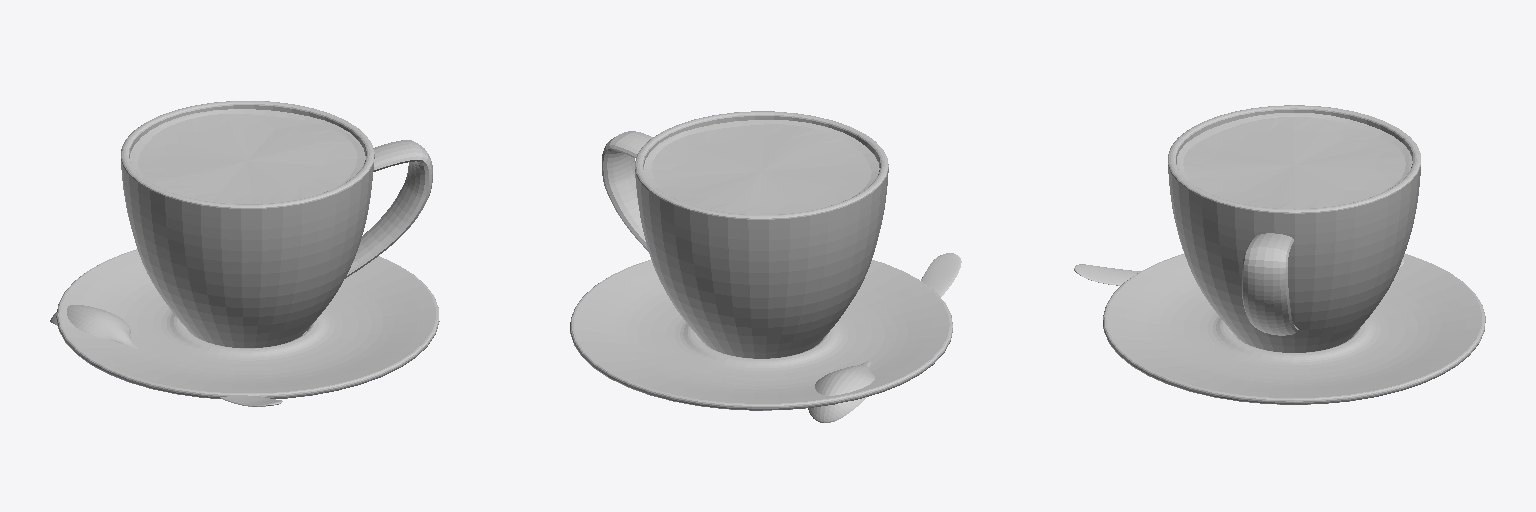
File: coffee-cup.obj
3 renders of one model, left to right at view 1: azimuth 30°, elevation 25°; view 2: azimuth 150°, elevation 25°; view 3: azimuth 270°, elevation 25°, orthographic.
Parts seen in each view (by area): view 1: cup, plate, cappuccino, spoon; view 2: cup, plate, cappuccino, spoon; view 3: cup, plate, cappuccino, spoon.
Part boxes in pixels (x1,y1,x2,y2): cup: (121,101,432,347); plate: (56,249,439,398); cappuccino: (130,109,365,203); spoon: (50,305,282,406); cup: (602,111,888,358); plate: (570,260,952,410); cappuccino: (644,120,879,214); spoon: (808,253,961,422); cup: (1168,105,1420,352); plate: (1103,254,1485,404); cappuccino: (1177,113,1412,208); spoon: (1074,259,1403,285).
Size of the model in its own units: 0.1331 by 0.0747 by 0.1426.